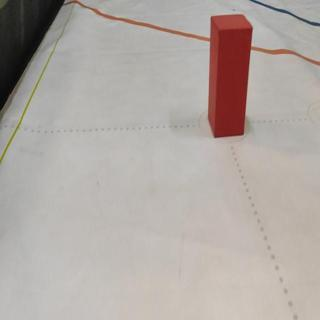redbox: (207, 13, 254, 139)
